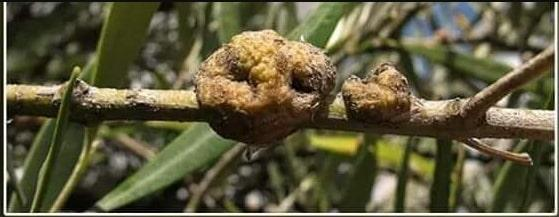Tuberculosis: (190, 25, 413, 145)
